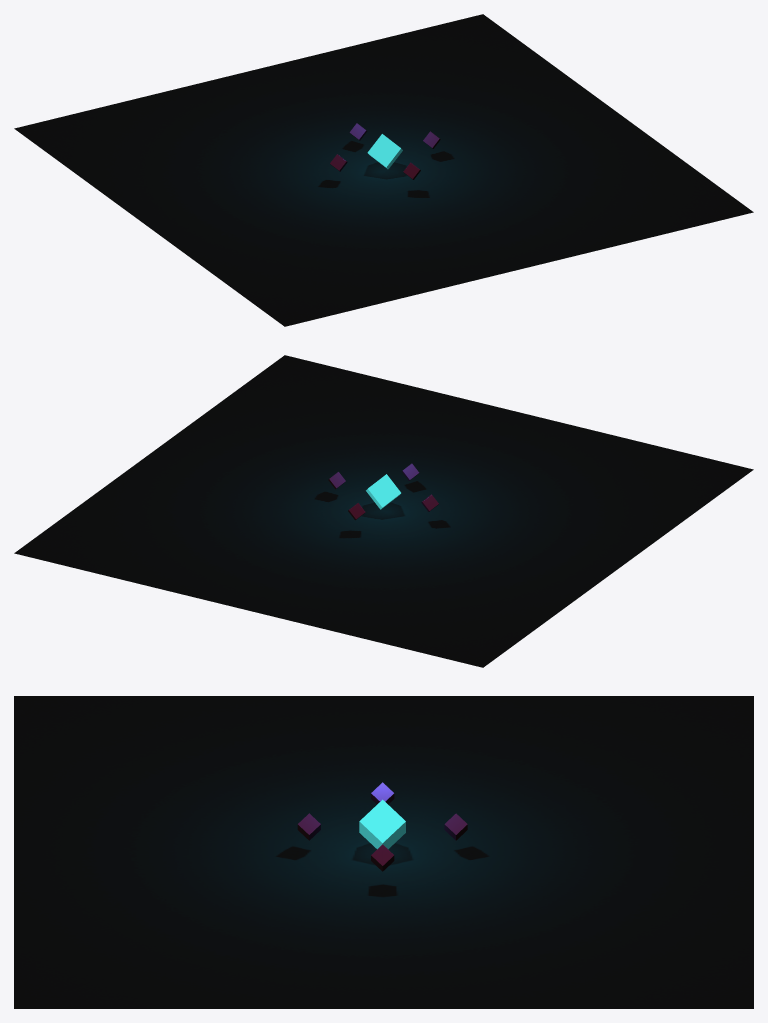
File: bakedcubes.obj
3 views of the same model, one above another, from view 1: azimuth 30°, elevation 25°; view 2: azimuth 150°, elevation 25°; view 3: azimuth 270°, elevation 25° (orthographic). The views are drawn at different scales.
Visible parts, largest first — view 1: Cube; view 2: Cube; view 3: Cube.
Part boxes in pixels (box(x1,y1,x2,y2)): Cube: box(14, 14, 753, 326); Cube: box(14, 355, 753, 667); Cube: box(14, 696, 753, 1008).
Bounding box in the file's own units: 10.08 × 0.7748 × 10.08.
Materials: 3 (3 with a texture image).
